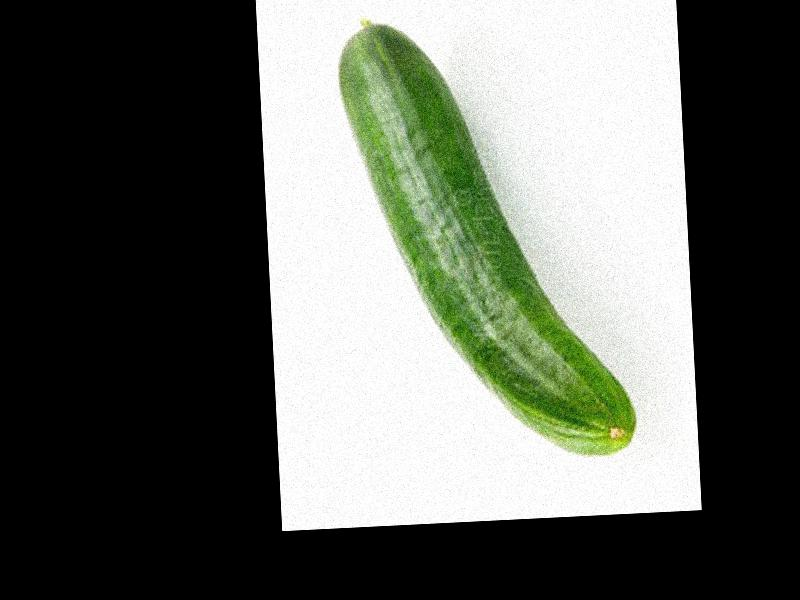Cucumber: (337, 12, 638, 467)
